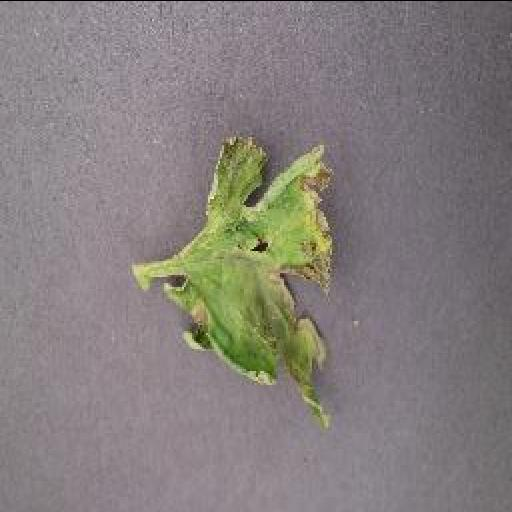disease_tomato: (158, 126, 340, 424)
